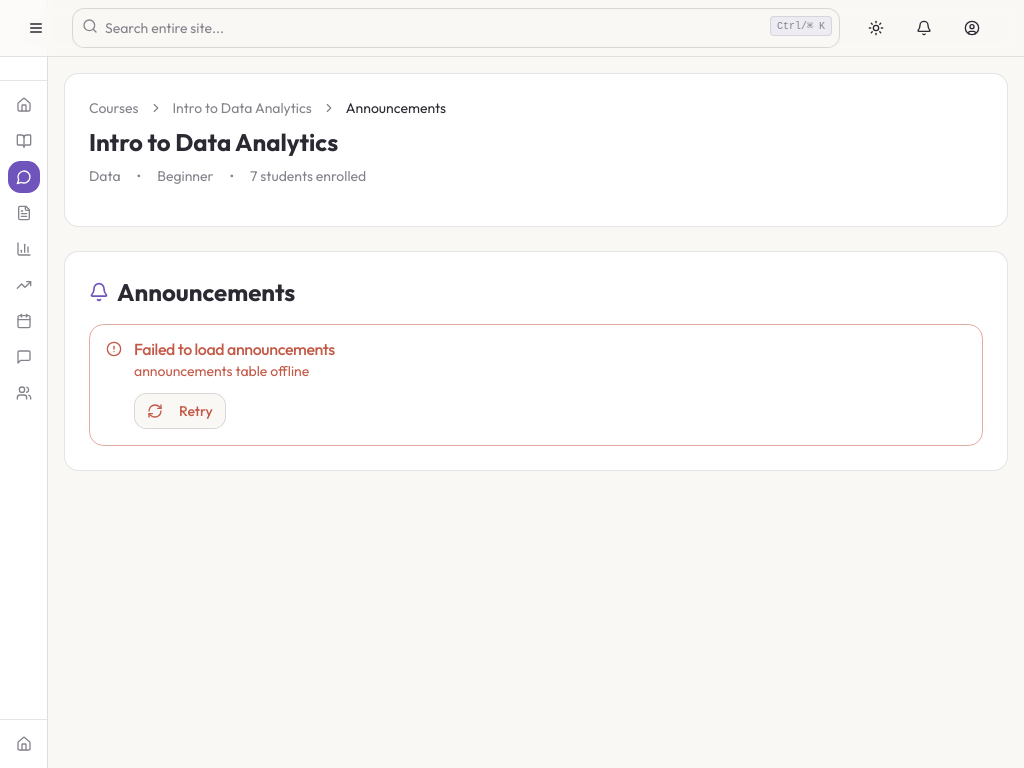
Test: CourseDetail › shows an inline announcements error with retry while the rest of the page renders
expect the link "Intro to Data Analytics" is shown: met, box [172,98,312,118]
expect the heading "Announcements" is shown: met, box [117,276,295,308]
Click the button "Retry": click(180, 411) [134,393,226,429]
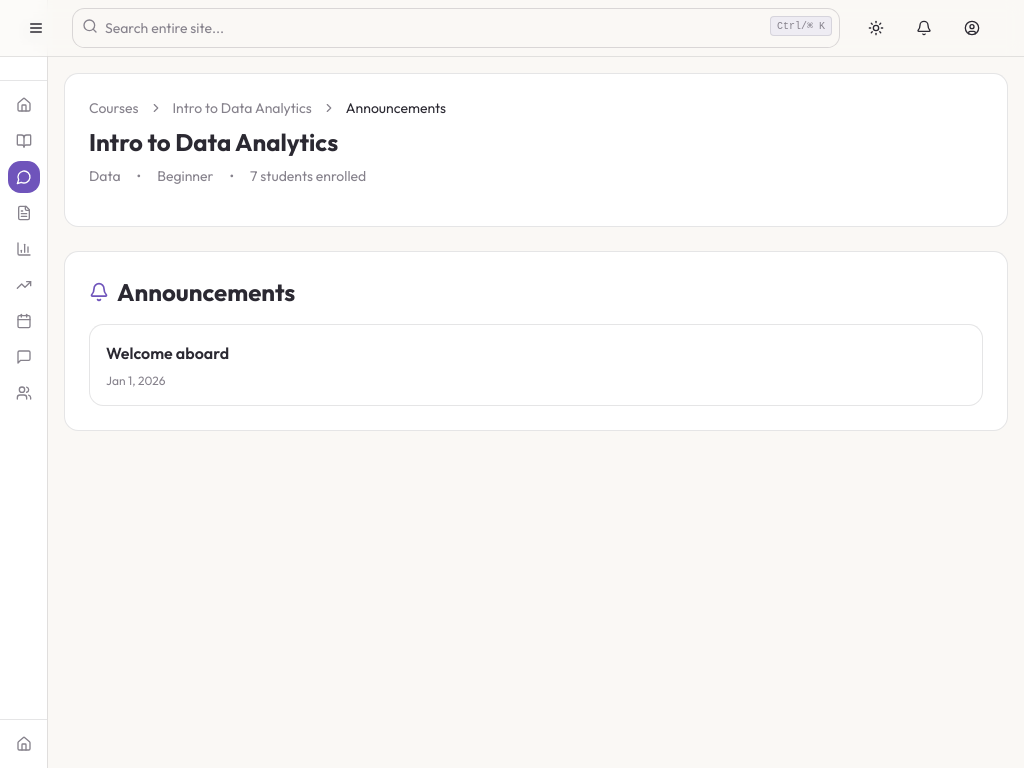
expect the heading "Welcome aboard" is shown: met, box [106,341,229,365]
expect the heading "Failed to load announcements" is gone: met
